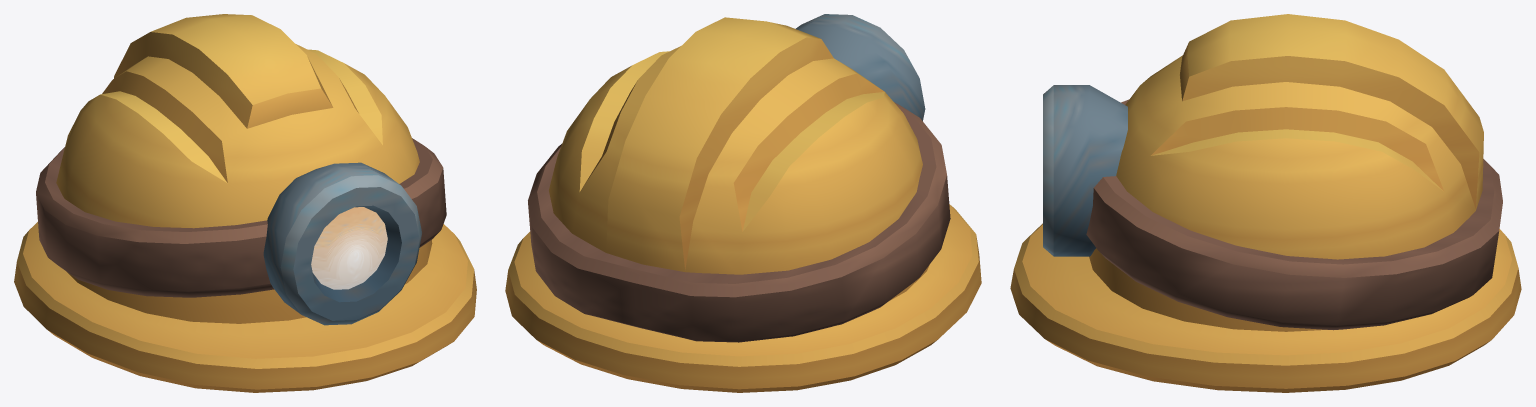
File: Mining_Helmet.glb
3 renders of one model, left to right at view 1: azimuth 30°, elevation 25°; view 2: azimuth 150°, elevation 25°; view 3: azimuth 270°, elevation 25°, orthographic. The views are drawn at different scales.
Visible parts, largest first — view 1: mining_helmet; view 2: mining_helmet; view 3: mining_helmet.
Part boxes in pixels (box(x1,y1,x2,y2)): mining_helmet: box(14, 14, 476, 392); mining_helmet: box(505, 14, 981, 392); mining_helmet: box(1010, 14, 1521, 392).
Bounding box in the file's own units: 1.21 × 0.7615 × 1.31.
2 materials, 2 textured.
